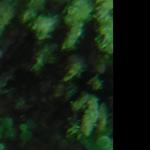dead: (1, 1, 112, 148)
